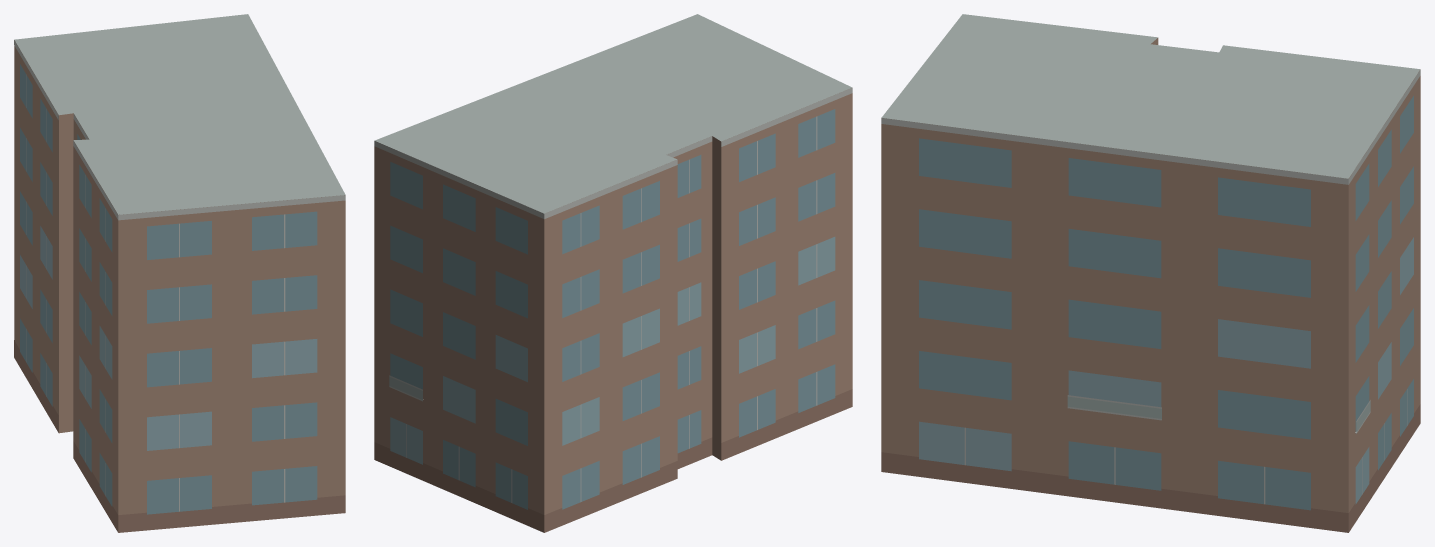
File: survey-upis-32880247.glb
The picture shows the model from 3 angles, left to right: view 1: azimuth 30°, elevation 25°; view 2: azimuth 150°, elevation 25°; view 3: azimuth 270°, elevation 25°; orthographic projection. The views are drawn at different scales.
Parts seen in each view (by area): view 1: survey-upis-32880247.tmp; view 2: survey-upis-32880247.tmp; view 3: survey-upis-32880247.tmp.
Part boxes in pixels (x1,y1,x2,y2): survey-upis-32880247.tmp: (14, 14, 345, 532); survey-upis-32880247.tmp: (374, 14, 852, 532); survey-upis-32880247.tmp: (881, 14, 1420, 532).
Bounding box in the file's own units: 14.08 × 14.1 × 19.46.
